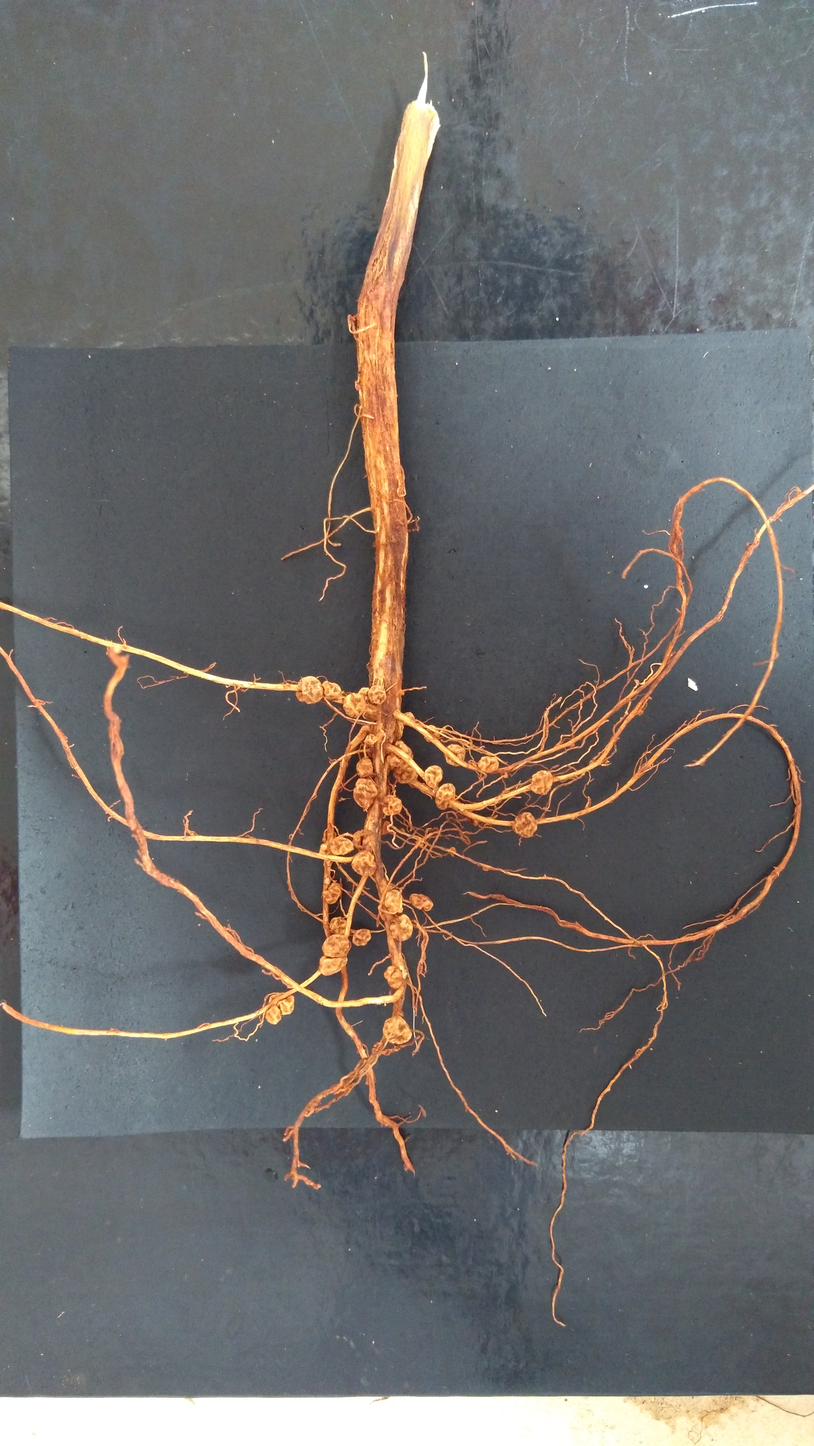nodule: (264, 992, 295, 1025), (383, 1016, 412, 1045), (353, 777, 378, 810), (296, 676, 324, 705), (321, 933, 351, 958), (386, 740, 413, 767), (350, 851, 377, 877), (390, 913, 413, 942), (512, 812, 537, 838), (342, 693, 367, 718), (319, 955, 348, 976), (393, 763, 418, 784), (444, 744, 466, 767), (531, 770, 552, 794), (423, 765, 444, 787), (353, 829, 374, 851), (322, 882, 343, 904), (356, 755, 375, 779), (331, 836, 355, 855), (384, 965, 403, 989), (409, 893, 434, 911), (385, 889, 403, 914), (382, 794, 403, 815), (435, 782, 456, 801), (368, 685, 387, 705), (323, 680, 341, 701), (478, 756, 499, 774), (351, 928, 372, 946), (330, 916, 348, 935), (423, 724, 440, 744), (321, 828, 337, 844), (400, 711, 415, 726), (394, 719, 404, 741), (435, 796, 449, 810), (358, 686, 371, 701), (363, 733, 379, 745), (398, 963, 410, 978), (370, 1042, 382, 1055), (319, 844, 331, 855), (382, 820, 391, 834), (448, 846, 458, 856), (415, 837, 424, 847), (395, 689, 405, 697), (355, 380, 361, 391), (472, 817, 479, 826), (399, 827, 406, 834), (634, 678, 639, 686), (503, 773, 508, 778), (570, 743, 575, 747)
